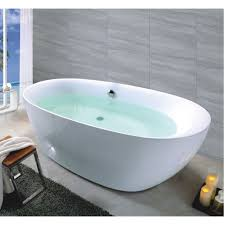bathub: (21, 72, 211, 198)
